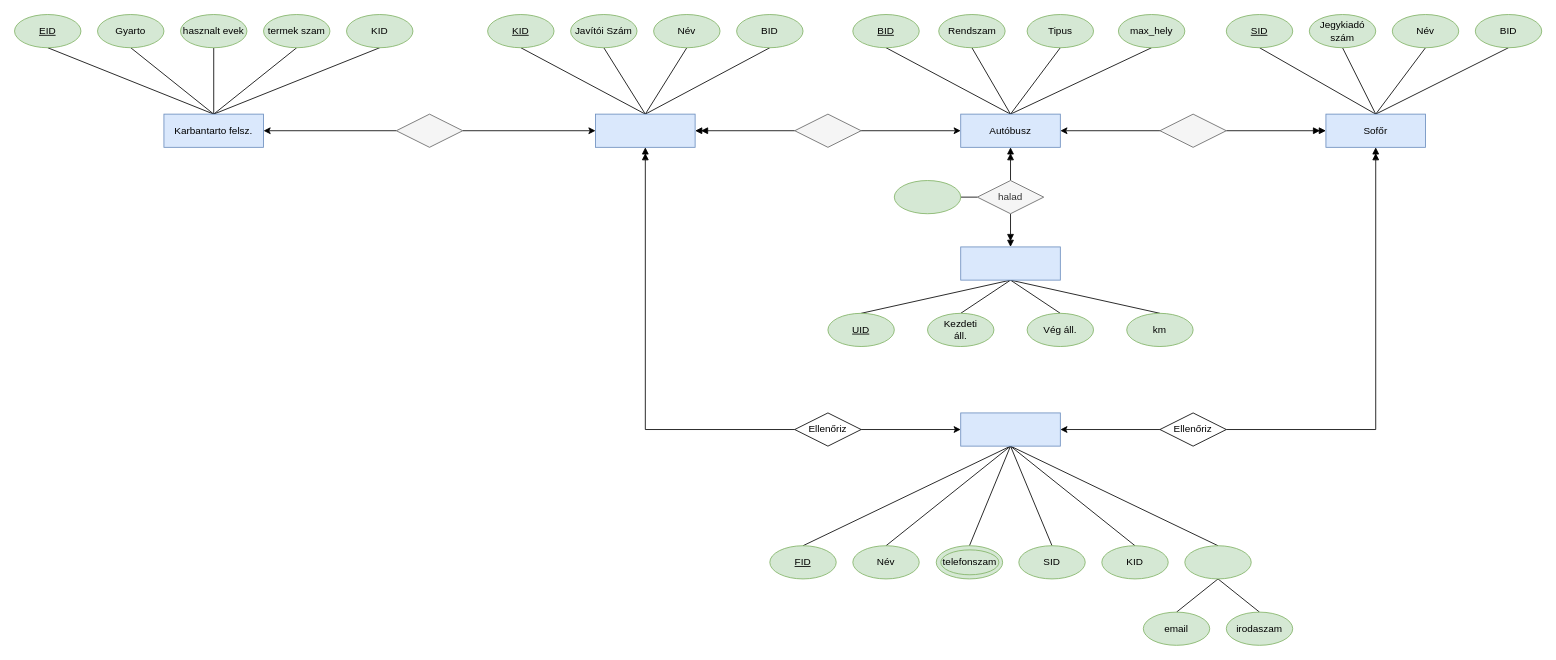
Some shapes in this 1556 by 660 pixel diagram are drawn without their labels. Here are the shapes that lost their labels. From the top down, the centre of each, then its label:
point (429, 130): hasznal
point (645, 130): Karbantartó
point (827, 130): karbantart
point (1192, 130): Vezet
point (927, 197): menetido
point (1010, 263): Útvonal
point (1010, 429): Felügyelő
point (1217, 562): elerhetoseg
